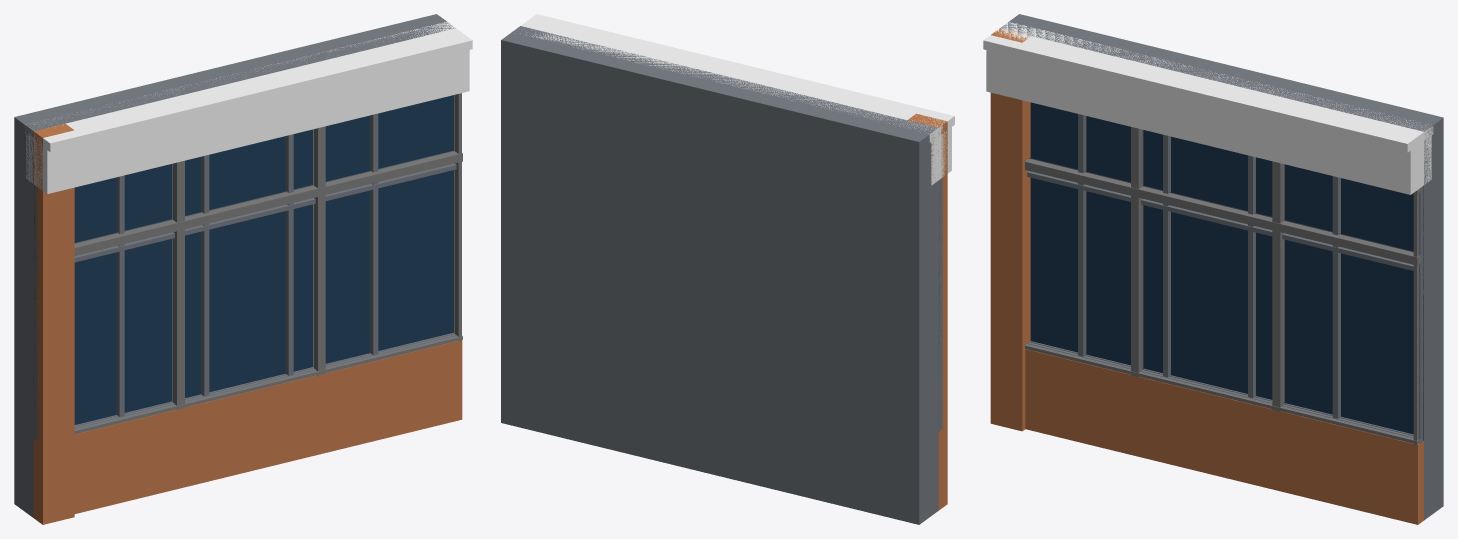
Rendered from top-w1_close.fbx.
3 views of the same model, side by side, from view 1: azimuth 30°, elevation 25°; view 2: azimuth 150°, elevation 25°; view 3: azimuth 330°, elevation 25° (orthographic).
Visible parts, largest first — view 1: a2002/0/top-w1.001; view 2: a2002/0/top-w1.001; view 3: a2002/0/top-w1.001.
Boxes of the visible parts, bbox=[...] form: a2002/0/top-w1.001: bbox=[14, 14, 472, 524]; a2002/0/top-w1.001: bbox=[501, 14, 954, 524]; a2002/0/top-w1.001: bbox=[983, 14, 1443, 524].
Size of the model in its own units: 4 by 3.5 by 0.59.
